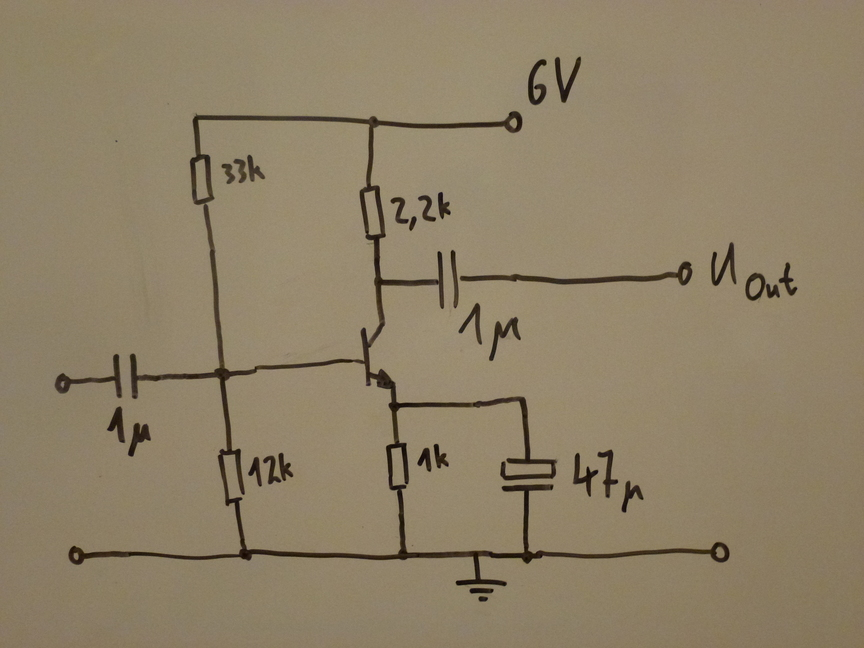capacitor.polarized: (496, 452, 559, 497)
capacitor.unpolarized: (430, 244, 467, 313), (106, 347, 146, 404)
gnd: (453, 574, 509, 607)
junction: (211, 363, 235, 385), (233, 543, 256, 565), (391, 545, 413, 566), (519, 547, 537, 567), (363, 113, 381, 132), (385, 397, 403, 415), (369, 274, 388, 290), (468, 545, 483, 561), (515, 392, 531, 407), (189, 112, 204, 125)
resistor: (213, 443, 247, 507), (357, 182, 389, 244), (383, 439, 413, 496), (187, 152, 217, 208)
terminal: (497, 107, 529, 138), (706, 537, 734, 569), (672, 258, 698, 289), (64, 542, 90, 572), (50, 369, 75, 397)
text: (705, 239, 802, 305), (565, 445, 649, 517), (457, 301, 525, 361), (521, 51, 588, 110), (102, 403, 157, 459), (389, 188, 455, 233), (246, 450, 298, 491), (218, 151, 270, 188), (415, 441, 451, 474)
transistor: (353, 319, 407, 393)
